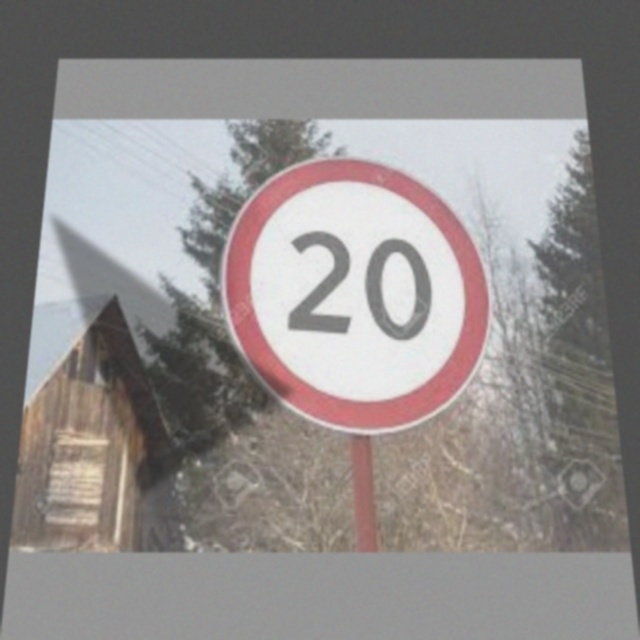Speed_Limit_20: (218, 157, 499, 429)
